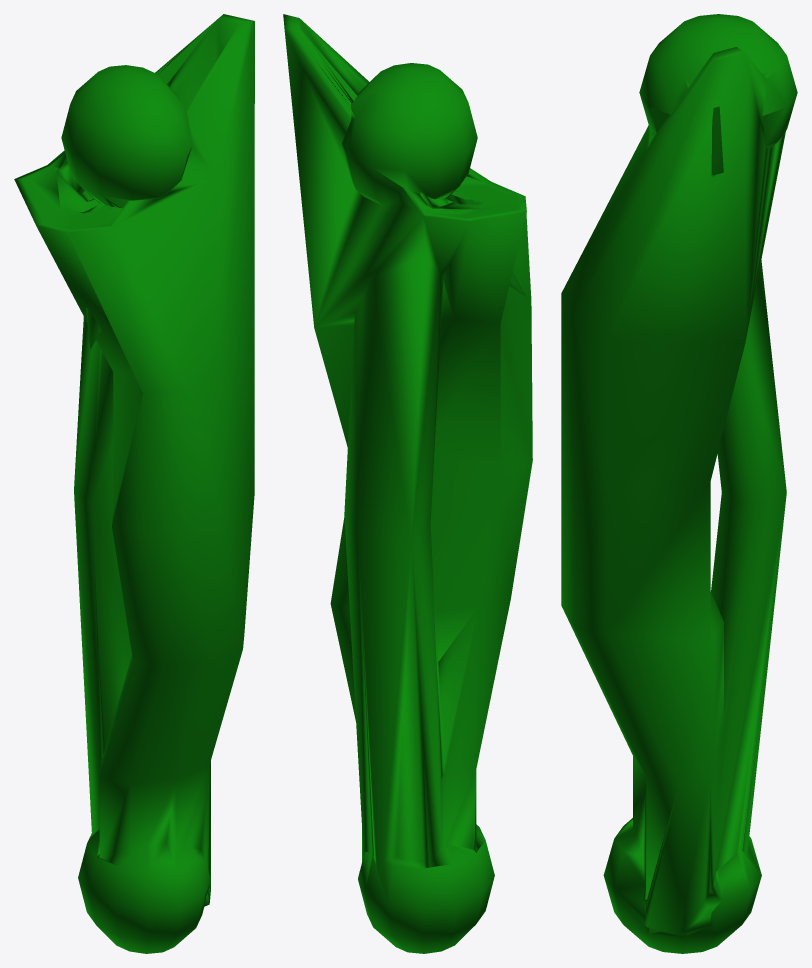
File: noga.obj
The picture shows the model from 3 angles, left to right: view 1: azimuth 30°, elevation 25°; view 2: azimuth 150°, elevation 25°; view 3: azimuth 270°, elevation 25°; orthographic projection. The views are drawn at different scales.
Parts seen in each view (by area): view 1: Cylinder001; view 2: Cylinder001; view 3: Cylinder001.
Boxes of the visible parts, x1,y1,x2,y2 form: Cylinder001: (14,14,254,953); Cylinder001: (283,14,532,953); Cylinder001: (561,14,797,953).
Bounding box in the file's own units: 4.7 × 17.5 × 3.93.
